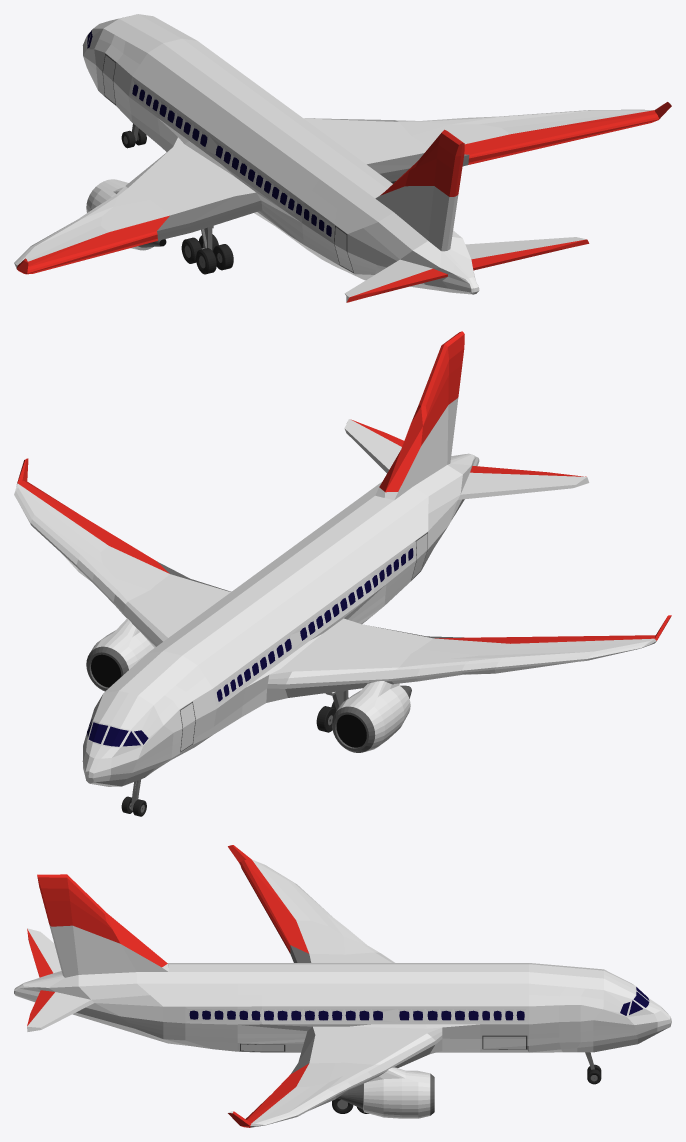
File: Airplane.fbx
3 views of the same model, one above another, from view 1: azimuth 30°, elevation 25°; view 2: azimuth 150°, elevation 25°; view 3: azimuth 270°, elevation 25° (orthographic). The views are drawn at different scales.
Visible parts, largest first — view 1: Airplane; view 2: Airplane; view 3: Airplane.
Part boxes in pixels (box(x1,y1,x2,y2)): Airplane: box(14, 14, 671, 302); Airplane: box(14, 331, 671, 816); Airplane: box(14, 845, 671, 1127).
Size of the model in its own units: 36.42 by 37.83 by 13.1.
